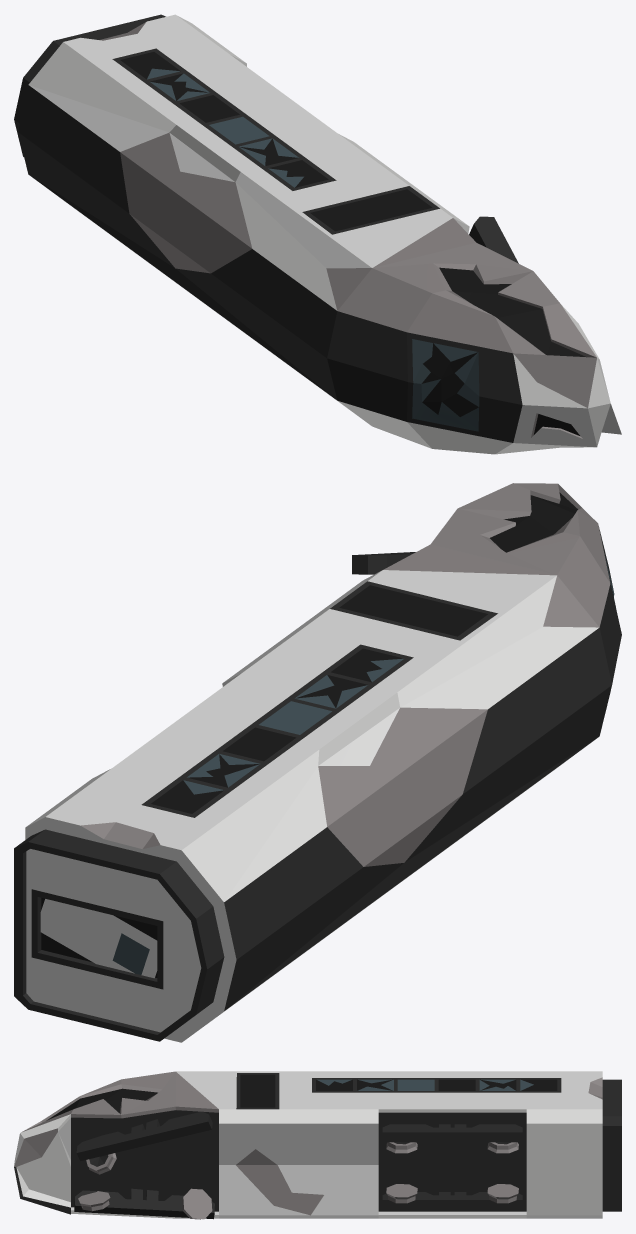
File: apocalypse_train-speed-apocalypse-b.fbx
The picture shows the model from 3 angles, top to bottom: view 1: azimuth 30°, elevation 25°; view 2: azimuth 150°, elevation 25°; view 3: azimuth 270°, elevation 25°; orthographic projection. The views are drawn at different scales.
Visible parts, largest first — view 1: apocalypse_train_speed_apocalypse_b; view 2: apocalypse_train_speed_apocalypse_b; view 3: apocalypse_train_speed_apocalypse_b.
Boxes of the visible parts, box(x1,y1,x2,y2) form: apocalypse_train_speed_apocalypse_b: box(14, 14, 621, 454); apocalypse_train_speed_apocalypse_b: box(14, 483, 621, 1042); apocalypse_train_speed_apocalypse_b: box(14, 1071, 621, 1219).
Bounding box in the file's own units: 51.65 × 40.17 × 200.
